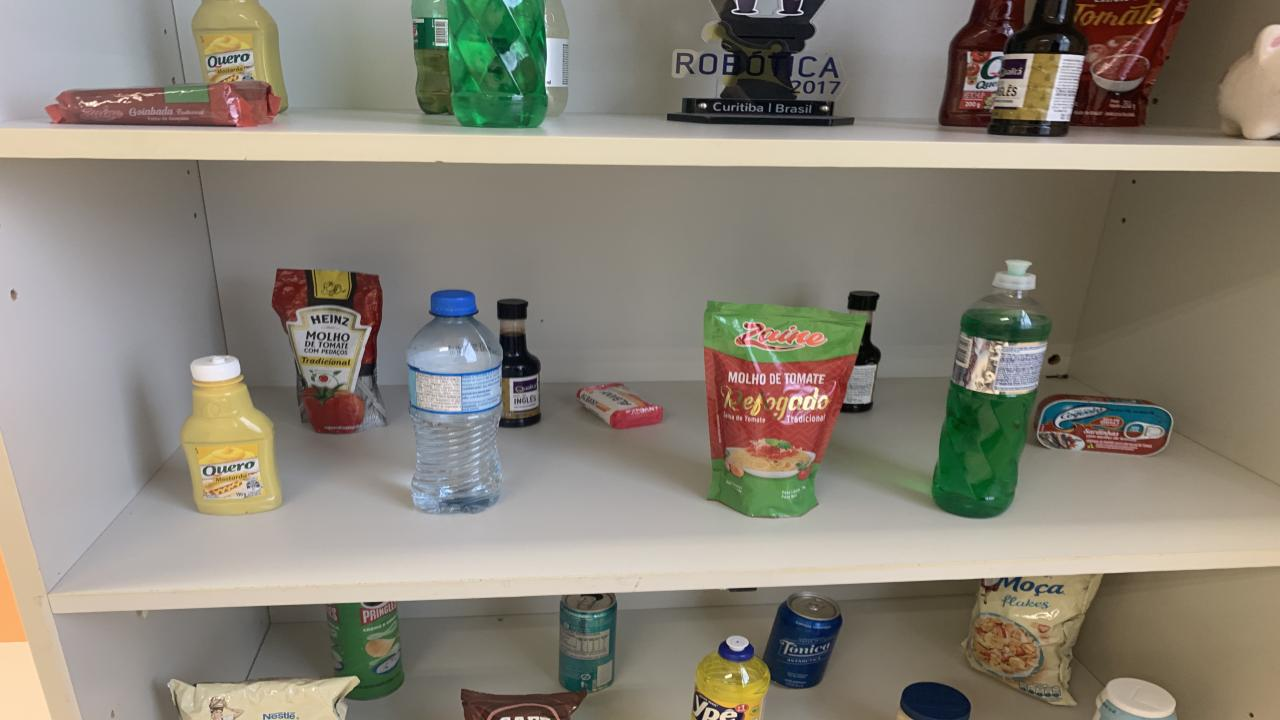Cleaner-Cleanup_Items: (1095, 677, 1178, 720)
Coffee-Pantry_Items: (460, 690, 588, 720)
Detergent-Cleanup_Items: (932, 261, 1050, 518), (448, 0, 548, 128), (690, 636, 770, 720)
English_Sauce-Pantry_Items: (988, 0, 1088, 137), (498, 298, 540, 428), (840, 291, 880, 412)
Flakes-Snacks: (962, 574, 1100, 705), (168, 677, 360, 720)
Guarana-Drinks: (410, 0, 452, 114)
Guava-Snacks: (45, 81, 280, 128)
Ketchup-Pantry_Items: (940, 0, 1025, 128)
Mayonnaise-Pantry_Items: (895, 682, 970, 720)
Mustard-Pantry_Items: (180, 354, 282, 514), (192, 0, 288, 111)
Pringles-Snacks: (328, 602, 405, 699)
Soap-Cleanup_Items: (578, 382, 662, 429)
Soda-Drinks: (545, 0, 570, 116)
Tea-Drinks: (558, 592, 618, 692)
Tomato_Sauce-Pantry_Items: (705, 302, 868, 518), (272, 270, 385, 433), (1072, 0, 1190, 128)
Tonic-Drinks: (762, 592, 842, 688)
Trophy-Miscellaneous: (668, 0, 855, 126)
Tuna_Can-Pantry_Items: (1038, 396, 1172, 456)
Water_Bottle-Drinks: (408, 291, 502, 514)
